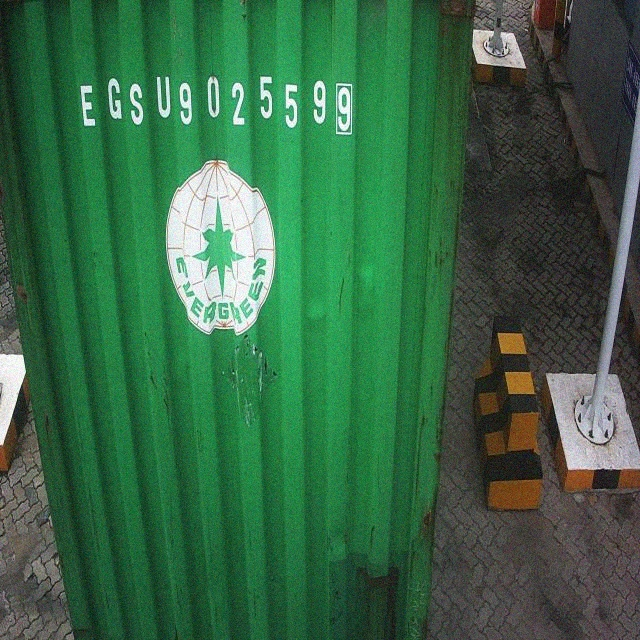Dent: (316, 243, 380, 370)
Rusty: (346, 532, 433, 640), (434, 1, 473, 99)
